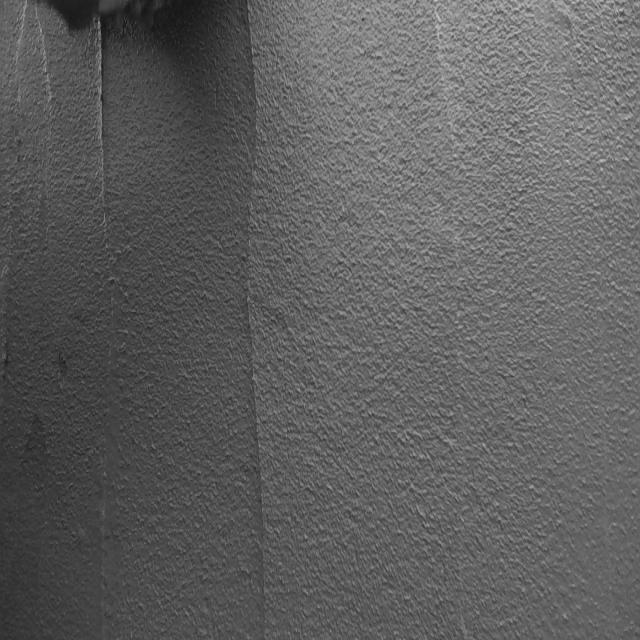trowels marks: (235, 10, 270, 640), (92, 6, 120, 640)
